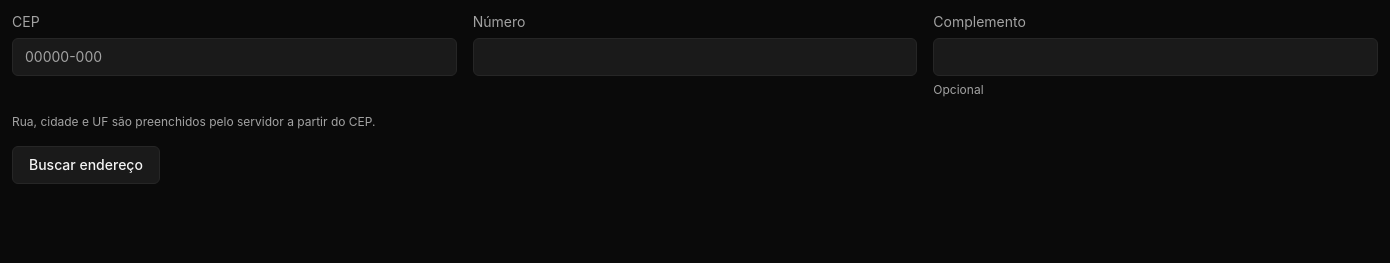
Test case: AddressPicker › 400 duplicado sem cache alerta o dead-end e não devolve endereço
Type "01310100" into the field labelled "CEP". click: (234, 57)
box: [12,38,457,76]
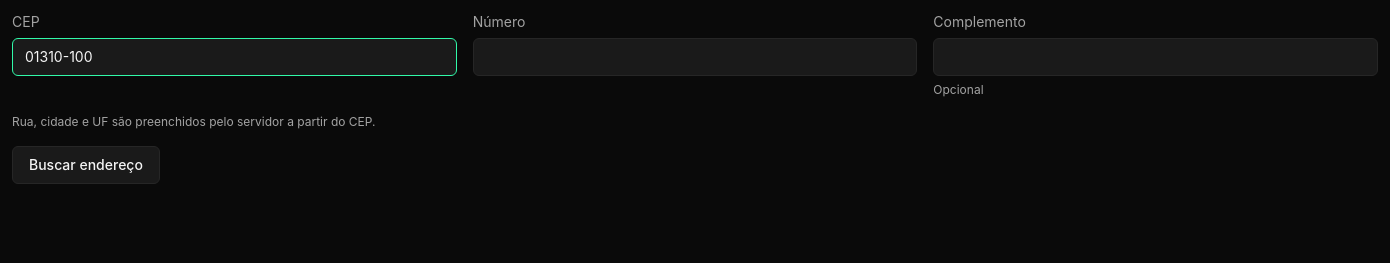
Type "1000" into the field labelled "Número". click: (695, 57)
box: [473,38,917,76]
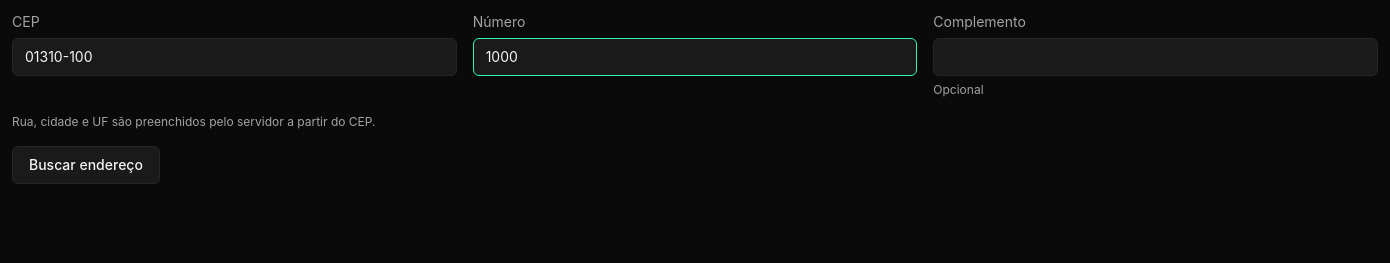
Click the button "Buscar endereço". click: (86, 165)
box: [12,146,160,184]
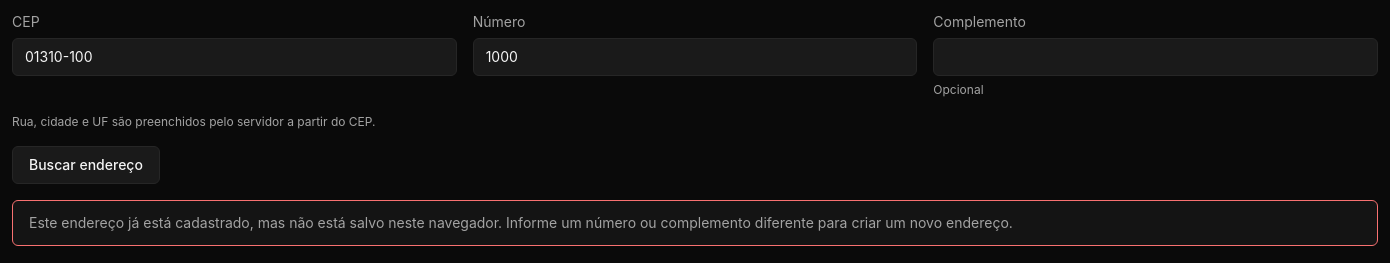
Expected: the text "Este endereço já está cadastrado, mas não está salvo neste navegador" is shown, [29,214,1013,231]
